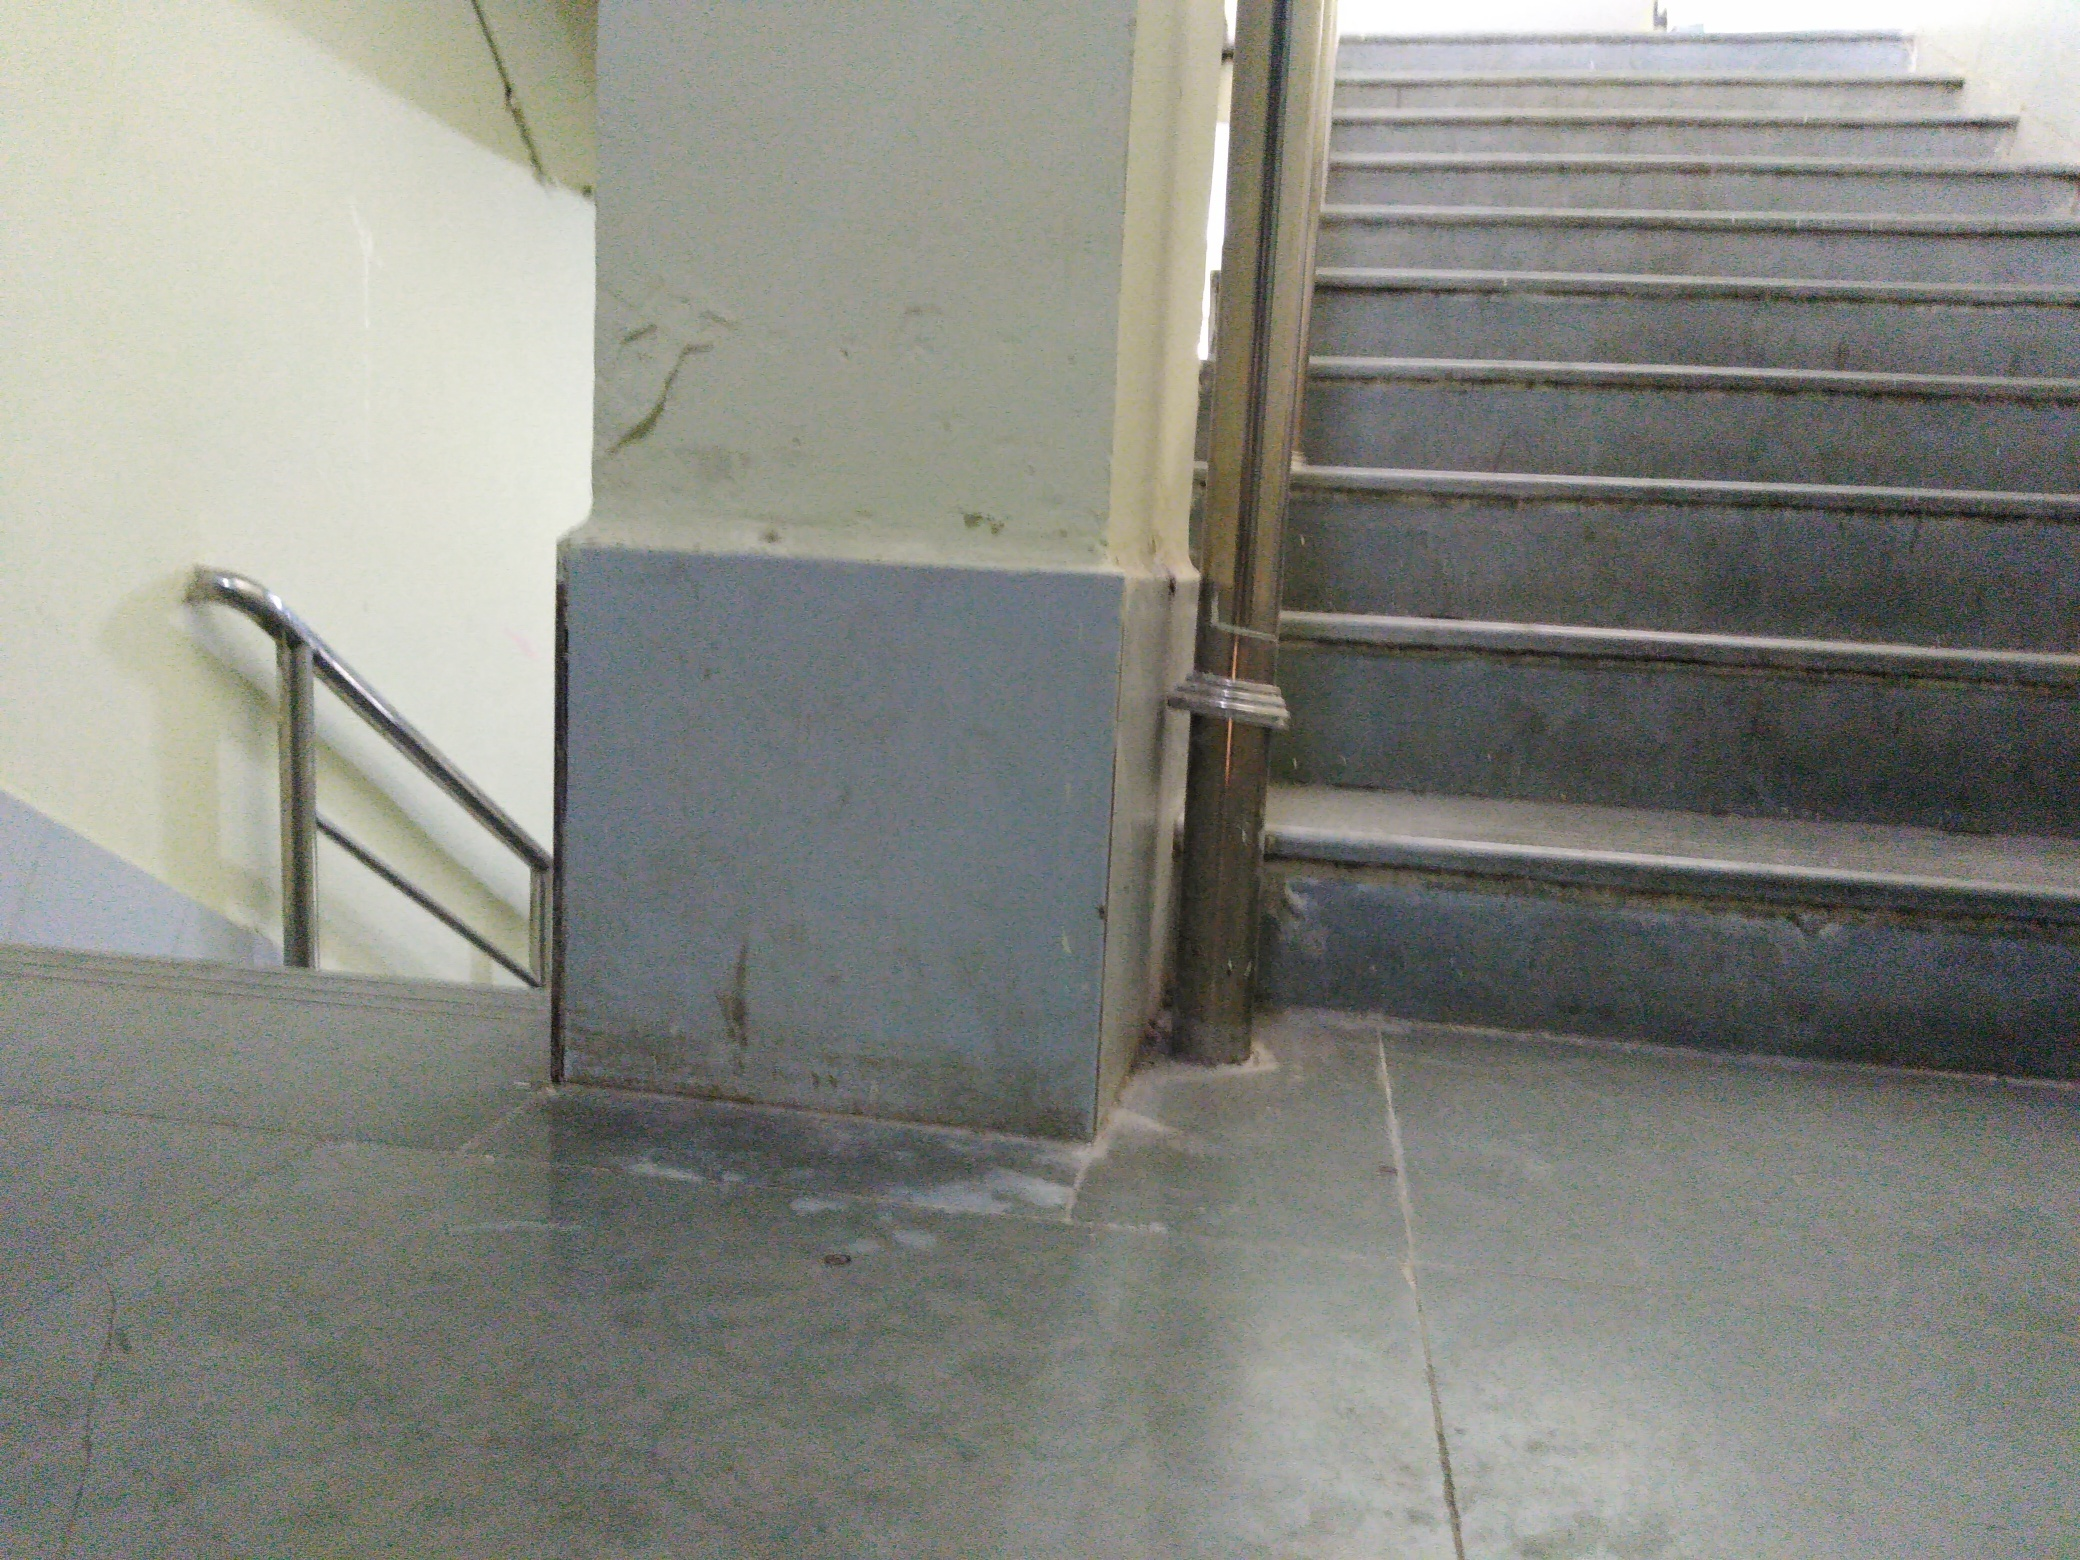stairs_up: (1327, 79, 2070, 1045)
